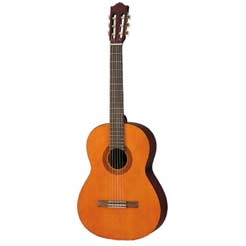guitar: (76, 2, 168, 240)
